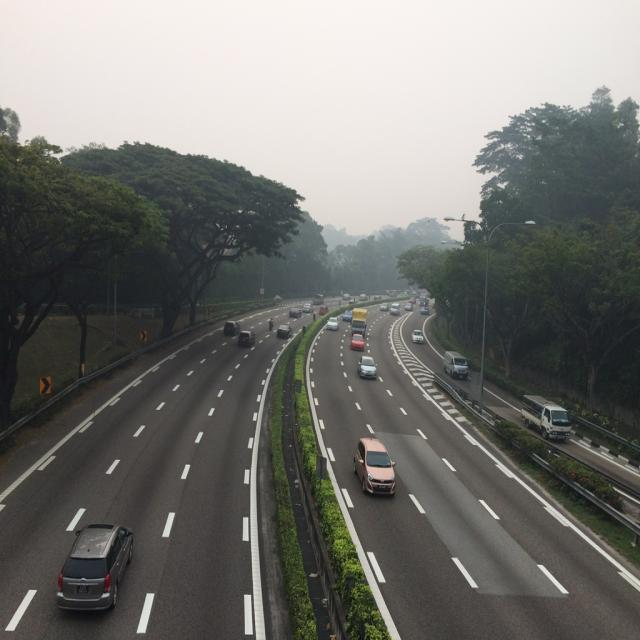car: (54, 522, 136, 609), (354, 437, 394, 493), (358, 354, 378, 377), (234, 328, 254, 342), (276, 321, 292, 337), (237, 334, 254, 345), (351, 331, 361, 347), (389, 305, 403, 314), (407, 295, 417, 306), (413, 331, 424, 341), (289, 308, 299, 318), (327, 318, 337, 327), (421, 304, 430, 313), (343, 308, 350, 319), (340, 290, 349, 298), (321, 304, 327, 313), (356, 294, 366, 299), (378, 304, 387, 309), (372, 295, 381, 299), (405, 306, 413, 310), (347, 298, 354, 301)
